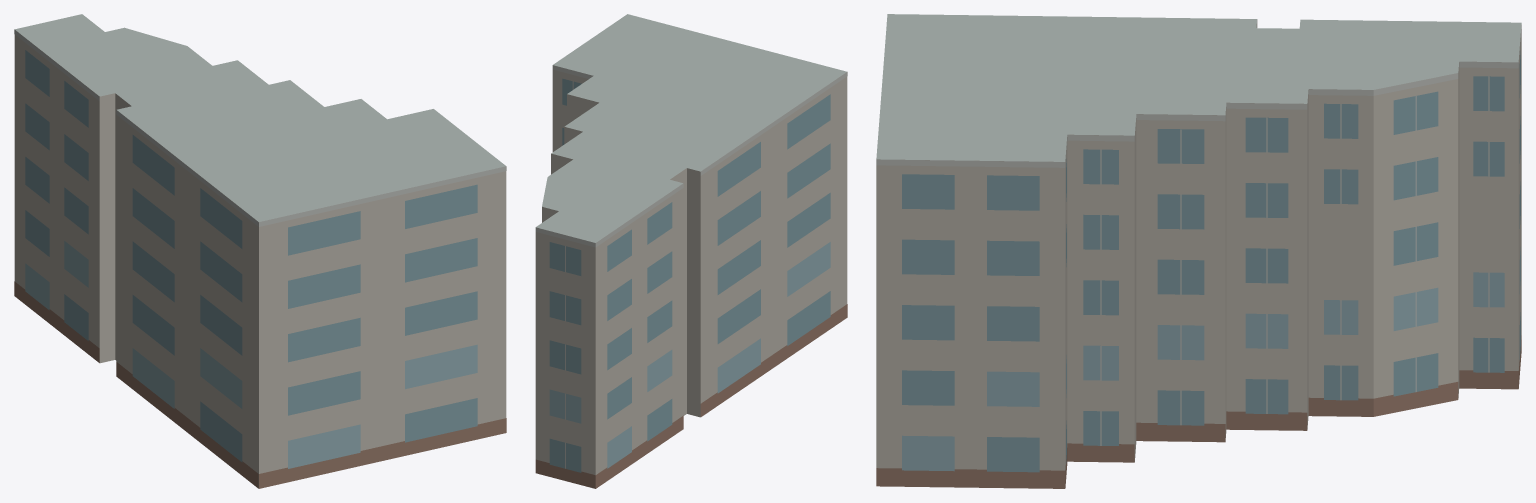
File: survey-upis-32874847.glb
3 views of the same model, side by side, from view 1: azimuth 30°, elevation 25°; view 2: azimuth 150°, elevation 25°; view 3: azimuth 270°, elevation 25° (orthographic). The views are drawn at different scales.
Parts seen in each view (by area): view 1: survey-upis-32874847.tmp; view 2: survey-upis-32874847.tmp; view 3: survey-upis-32874847.tmp.
Part boxes in pixels (box(x1,y1,x2,y2)): survey-upis-32874847.tmp: box(14, 14, 506, 488); survey-upis-32874847.tmp: box(535, 14, 847, 488); survey-upis-32874847.tmp: box(876, 14, 1521, 488).
Size of the model in its own units: 13.01 by 13.4 by 23.98.
